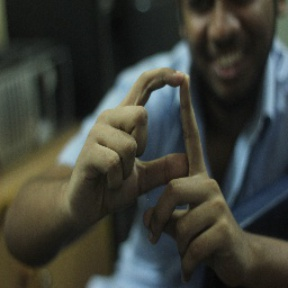D: (108, 56, 222, 214)
